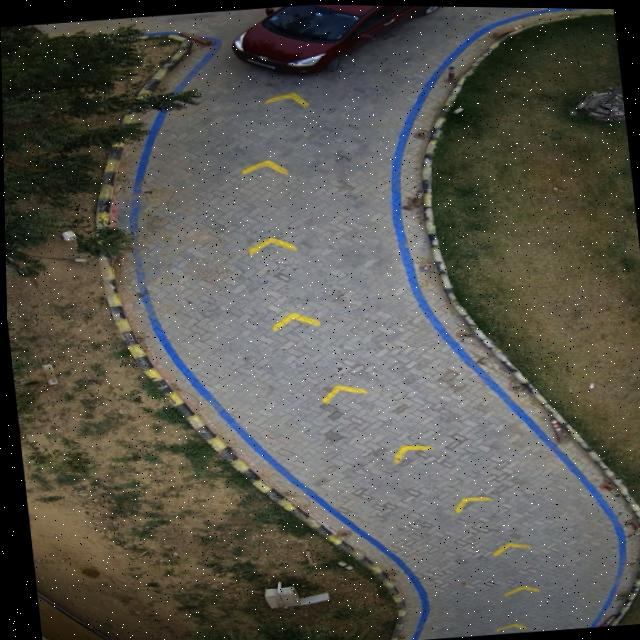car: (231, 4, 438, 73)
